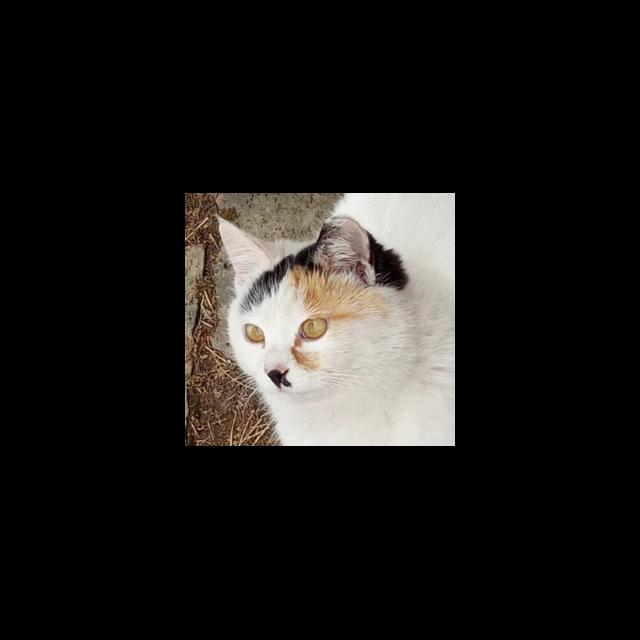animals: (205, 207, 401, 402)
